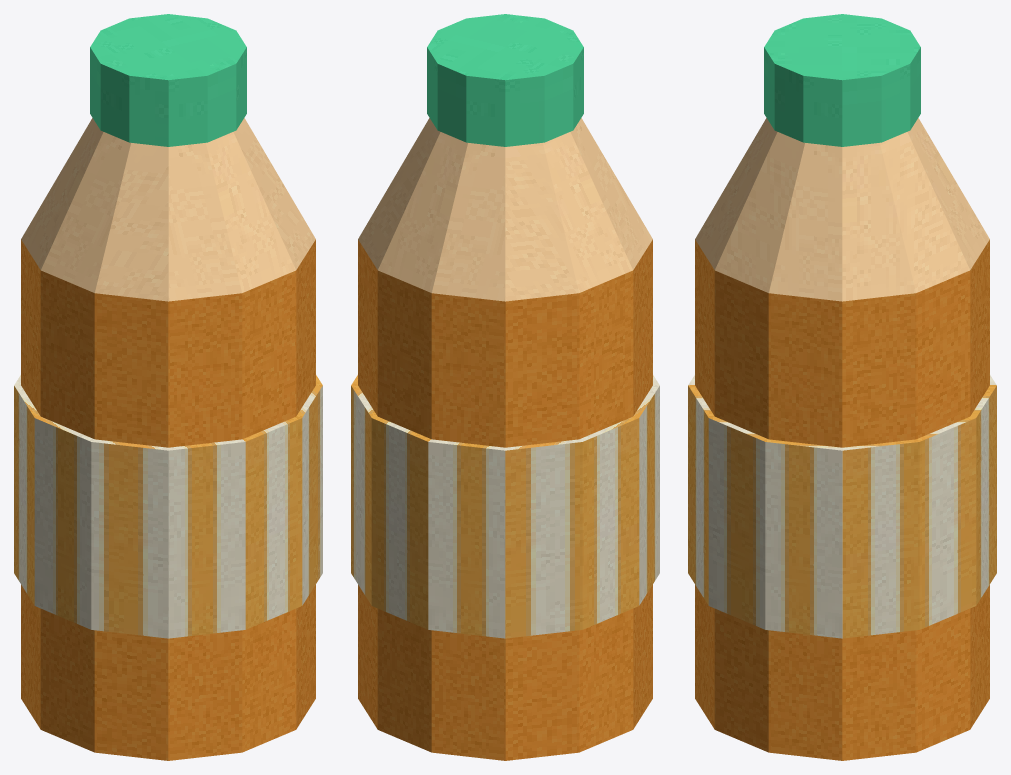
The picture shows the model from 3 angles, left to right: view 1: azimuth 30°, elevation 25°; view 2: azimuth 150°, elevation 25°; view 3: azimuth 270°, elevation 25°; orthographic projection.
Visible parts, largest first — view 1: orange_juice; view 2: orange_juice; view 3: orange_juice.
Boxes of the visible parts, x1,y1,x2,y2 form: orange_juice: (14, 14, 322, 760); orange_juice: (351, 14, 659, 760); orange_juice: (688, 14, 996, 760).
Size of the model in its own units: 0.067 by 0.156 by 0.067.
Materials: 4 (4 with a texture image).
